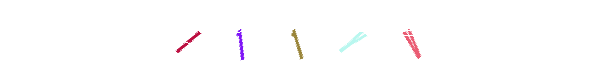1: (200, 0, 280, 80), (257, 0, 337, 80)
I: (148, 0, 228, 80)
V: (340, 0, 420, 80)
Y: (267, 0, 347, 80)
